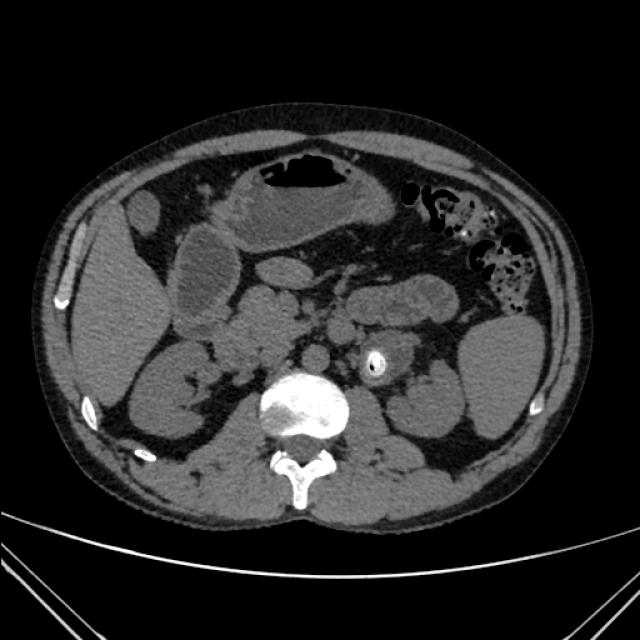kidneystone: (360, 349, 388, 378)
